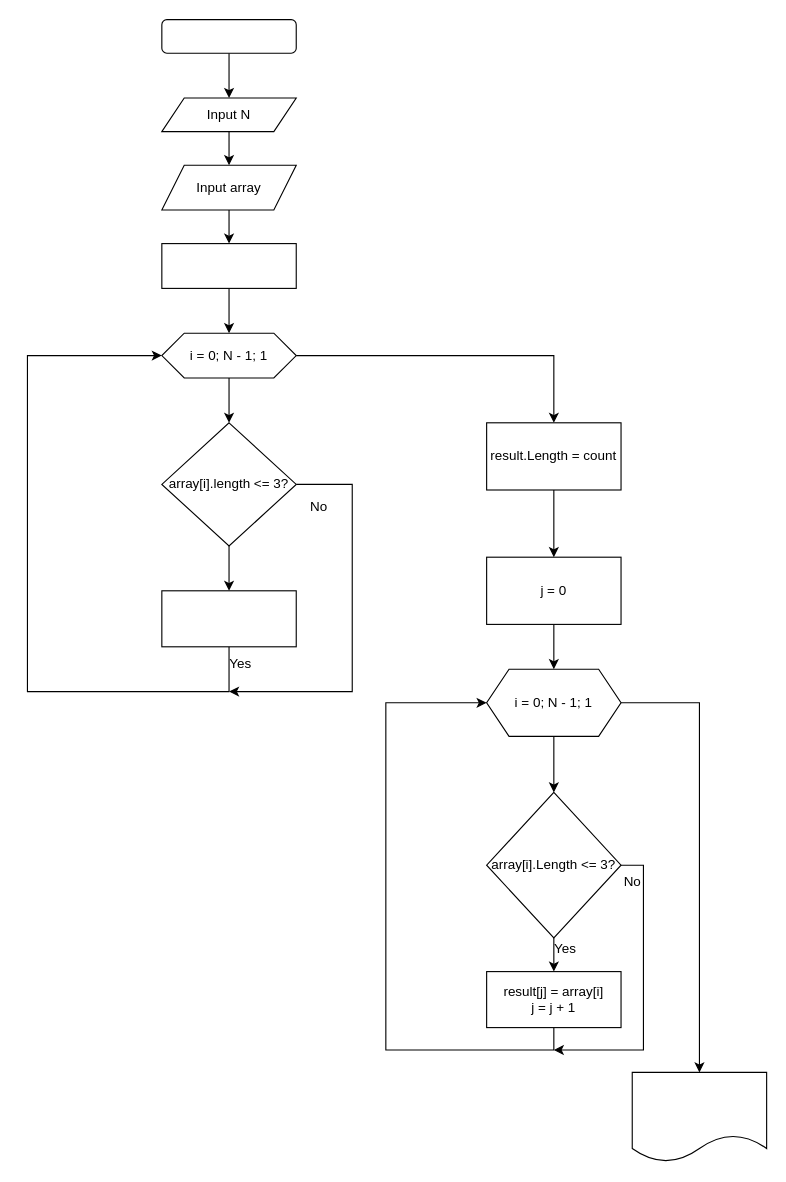
Some shapes in this 786 by 1182 pixel diagram are drawn without their labels. The shapes that lost their labels are listed below. From the top down, each one's centre as x and y in pixels, then its label:
(228,35): Start
(228,265): count = 0
(228,618): count = count + 1
(699,1116): Print result
